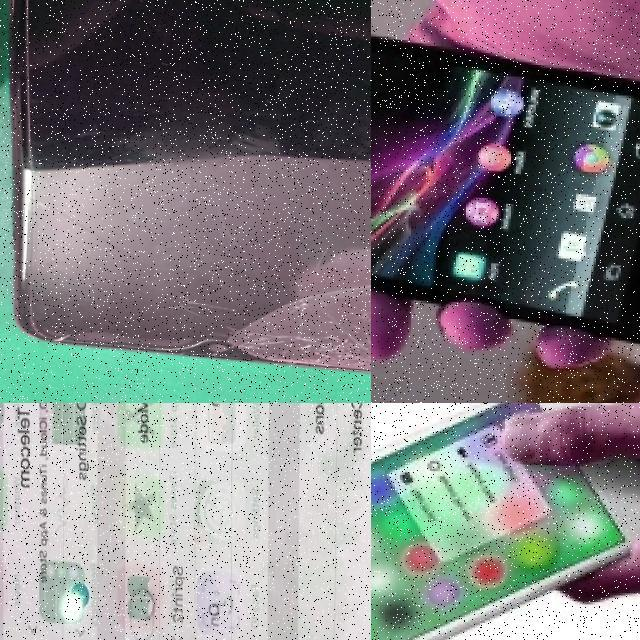screen crack: (30, 196, 371, 375)
